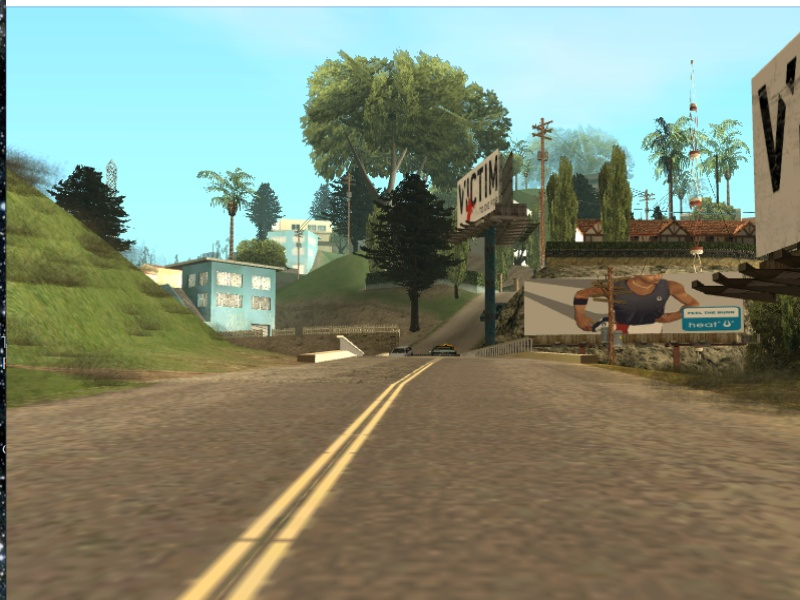vehicle: (432, 343, 457, 358), (388, 345, 412, 357)
